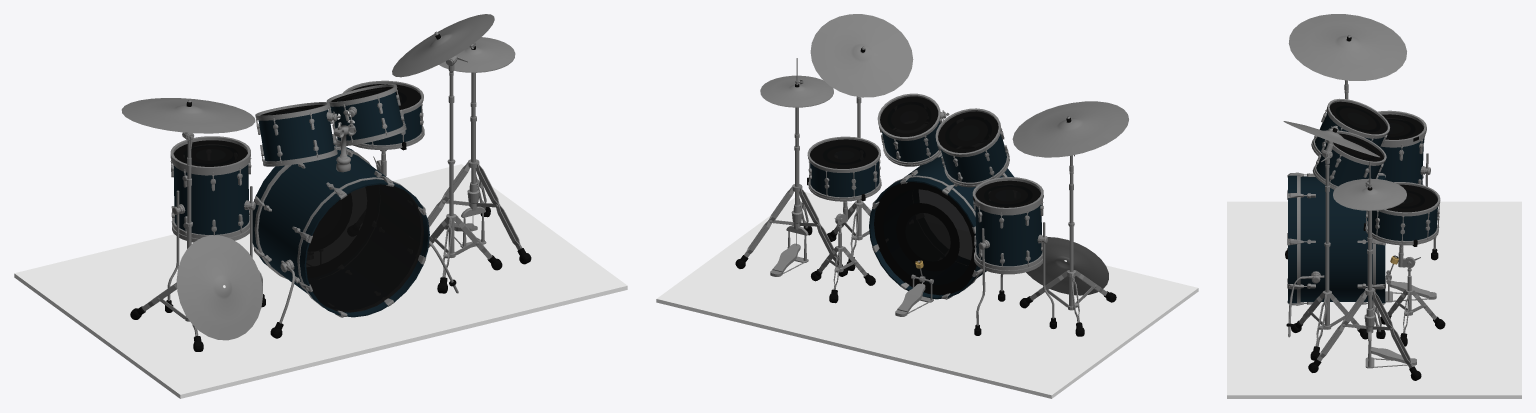
File: drums.obj
The picture shows the model from 3 angles, left to right: view 1: azimuth 30°, elevation 25°; view 2: azimuth 150°, elevation 25°; view 3: azimuth 270°, elevation 25°; orthographic projection. The views are drawn at different scales.
Parts seen in each view (by area): view 1: Plane.001__0; view 2: Plane.001__0; view 3: Plane.001__0.
Boxes of the visible parts, x1,y1,x2,y2 form: Plane.001__0: (14, 14, 627, 398); Plane.001__0: (656, 14, 1198, 398); Plane.001__0: (1227, 14, 1521, 398).
Bounding box in the file's own units: 3.46 × 1.9 × 2.22.
